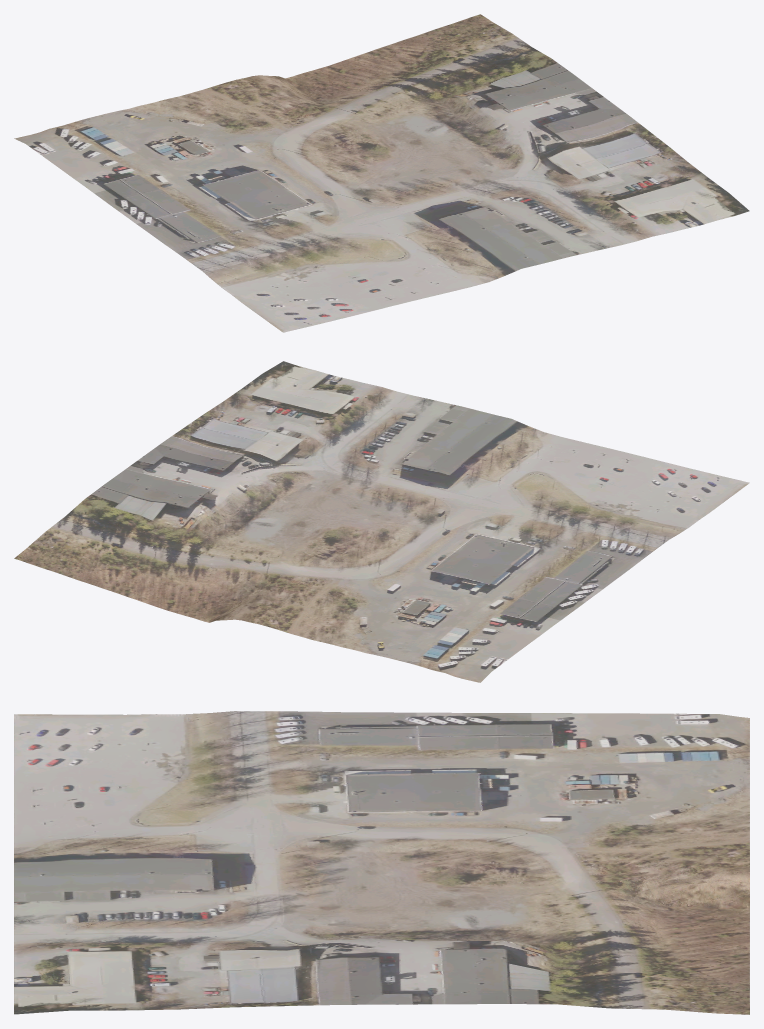
Rendered from CM_Terrain_24493121_6816722.fbx.
3 renders of one model, top to bottom at view 1: azimuth 30°, elevation 25°; view 2: azimuth 150°, elevation 25°; view 3: azimuth 270°, elevation 25°, orthographic. The views are drawn at different scales.
Parts seen in each view (by area): view 1: CM_Terrain_24493121_6816722_LOD0; view 2: CM_Terrain_24493121_6816722_LOD0; view 3: CM_Terrain_24493121_6816722_LOD0.
Boxes of the visible parts, <box> form: CM_Terrain_24493121_6816722_LOD0: <box>14,14,749,332</box>; CM_Terrain_24493121_6816722_LOD0: <box>14,361,749,682</box>; CM_Terrain_24493121_6816722_LOD0: <box>14,711,749,1014</box>.
Size of what is drawn, in the model's own units: 205 by 10.36 by 205.
